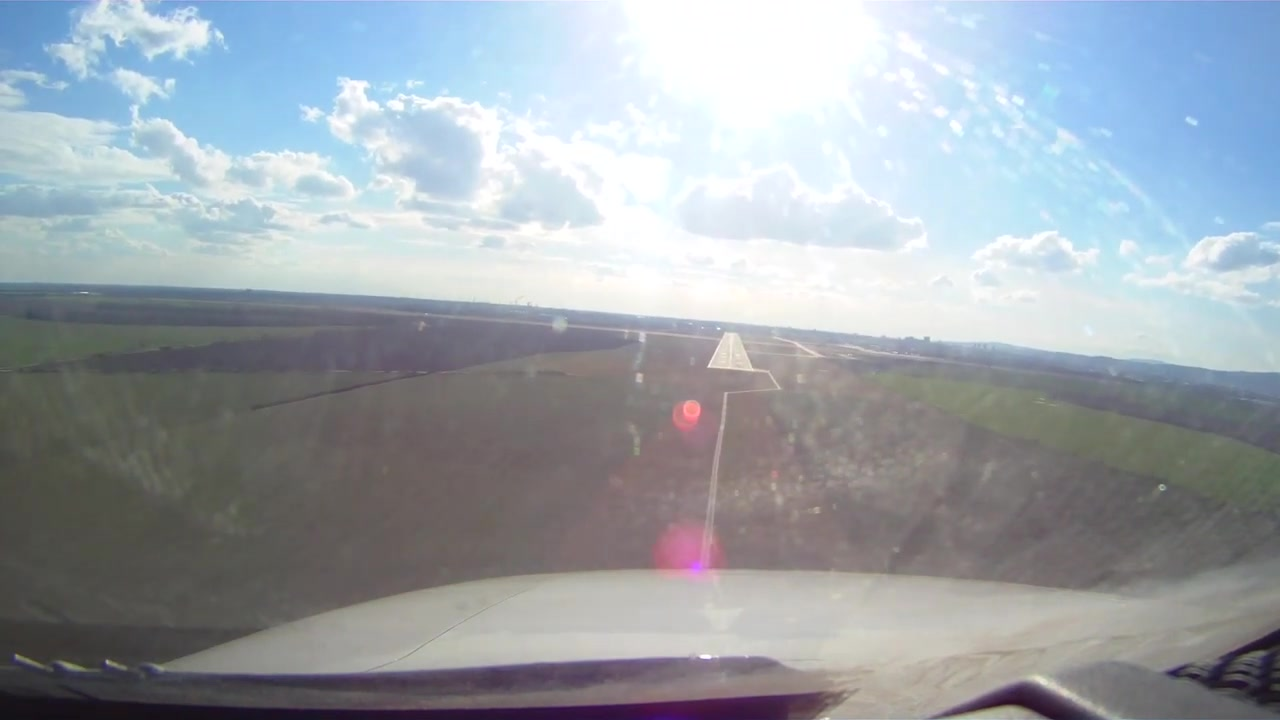runway: (705, 332, 755, 372)
